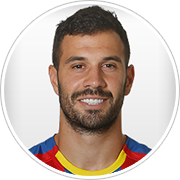face: (47, 39, 137, 121)
